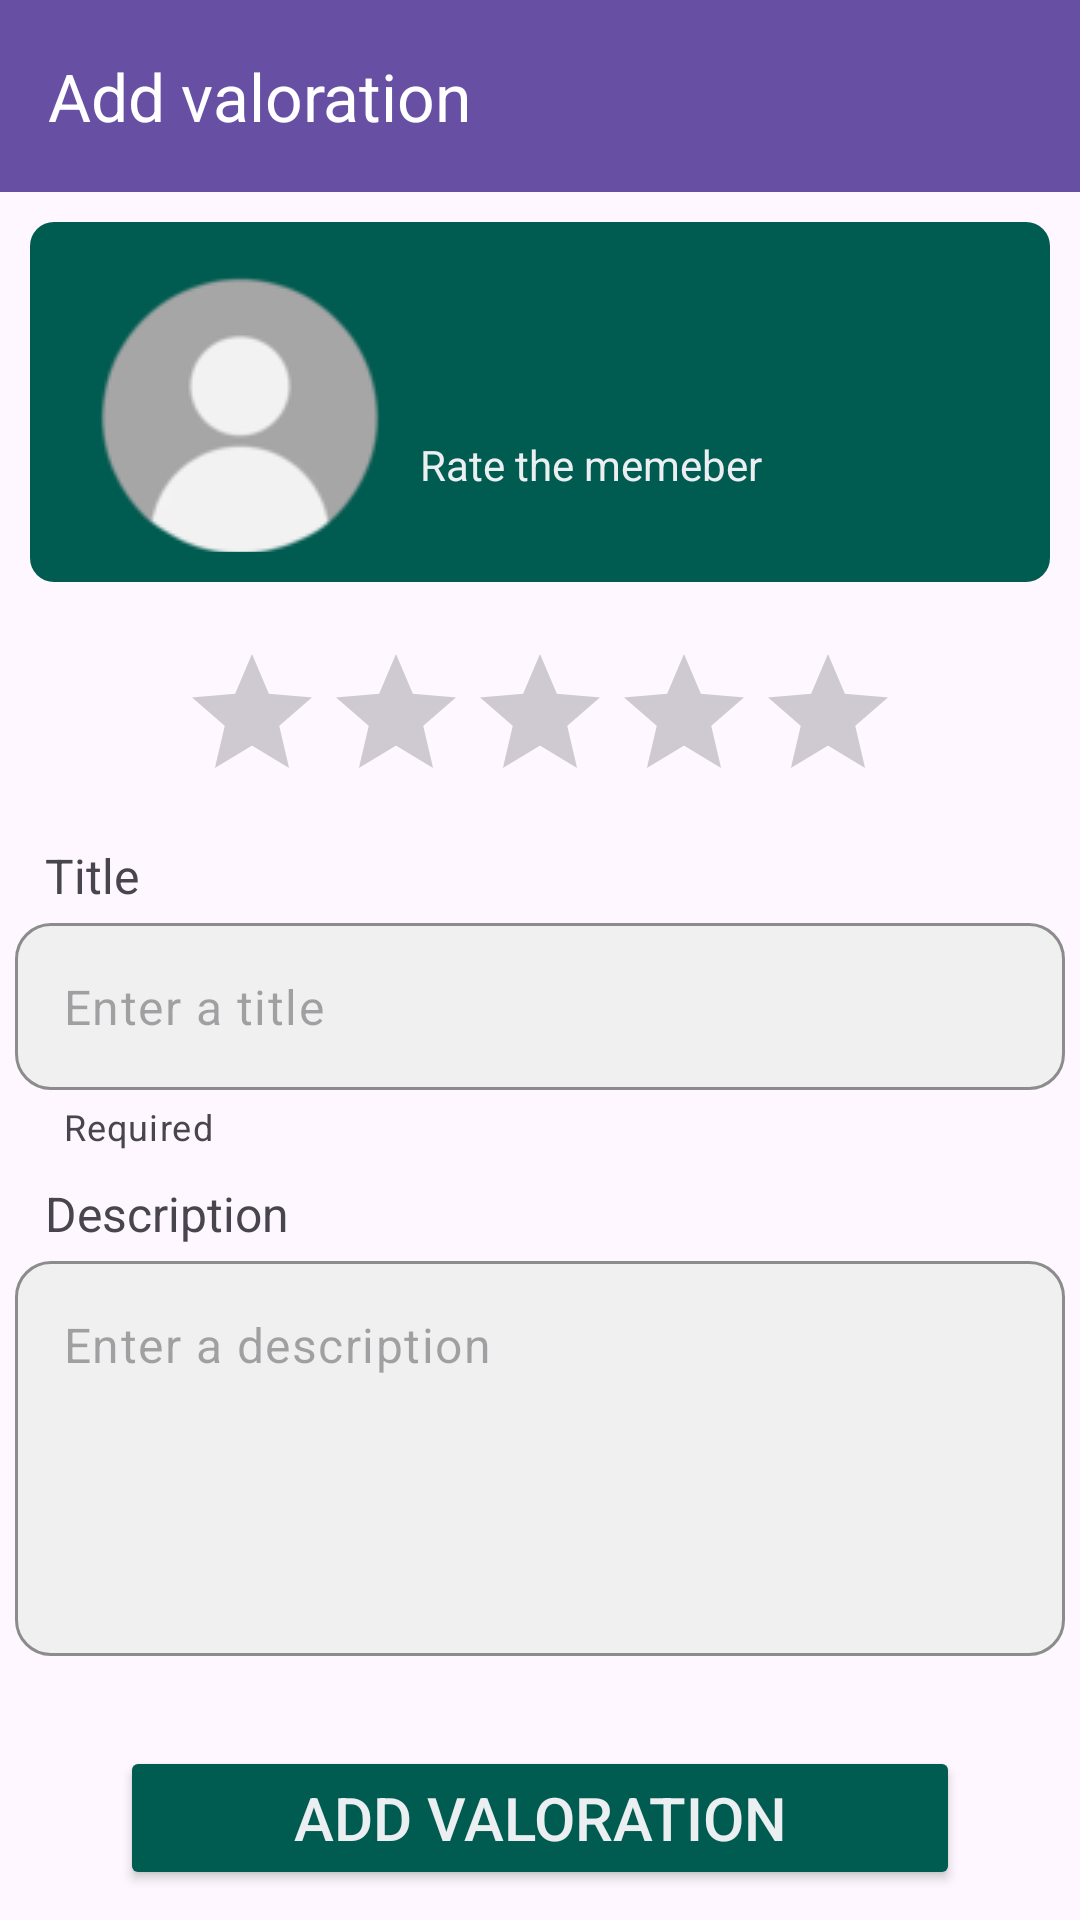

Icons on this 1080w x 1920h Android screen, each with its box as detection(x1, y1, x2, y2):
profile photo: detection(101, 278, 379, 552)
